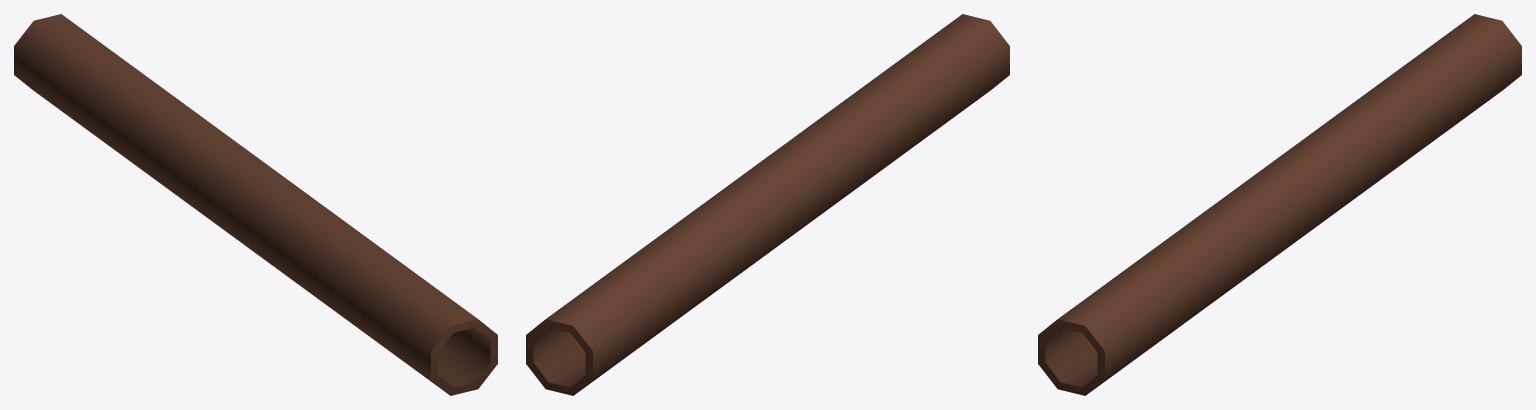
Rendered from Pipe_C_1_1.glb.
3 views of the same model, side by side, from view 1: azimuth 30°, elevation 25°; view 2: azimuth 150°, elevation 25°; view 3: azimuth 330°, elevation 25° (orthographic).
Visible parts, largest first — view 1: Pipe_C_1_1; view 2: Pipe_C_1_1; view 3: Pipe_C_1_1.
Boxes of the visible parts, <box> form: Pipe_C_1_1: <box>14,14,497,395</box>; Pipe_C_1_1: <box>526,14,1009,395</box>; Pipe_C_1_1: <box>1038,14,1521,395</box>.
Bounding box in the file's own units: 0.5105 × 0.5105 × 5.51.
1 material, 1 textured.
